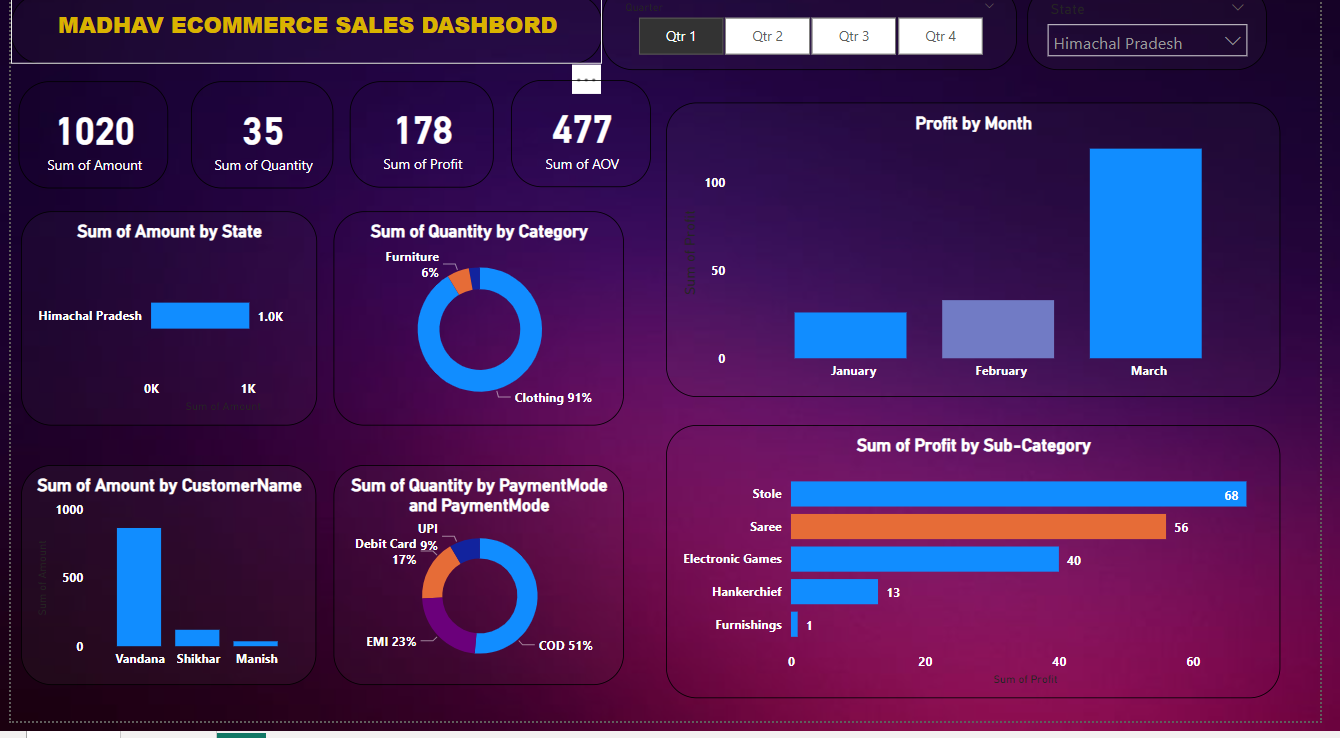

The dashboard page shown, as its layout file describes it:
{"tool":"powerbi","page":{"name":"Ecommerce_Sales_Dashbord","canvas":[1280,720],"ordinal":0},"visuals":[{"type":"textbox","box":[0,8.2,578.6,68.6],"z":0},{"type":"columnChart","title":"Profit by Month","fields":{"Category":["Orders.Order Date.Variation.Date Hierarchy.Month"],"Y":["Sum(Details.Profit)"]},"box":[640.3,115.2,600.5,287.9],"z":1000},{"type":"barChart","fields":{"Category":["Details.Sub-Category"],"Y":["Sum(Details.Profit)"]},"box":[640.3,430.5,600.5,267.4],"z":2000},{"type":"donutChart","fields":{"Category":["Details.Category"],"Y":["Sum(Details.Quantity)"]},"box":[315.3,220.7,283.8,209.8],"z":3000},{"type":"donutChart","fields":{"Category":["Details.PaymentMode"],"Y":["Sum(Details.Quantity)"],"Series":["Details.PaymentMode"]},"box":[315.3,468.9,283.8,215.3],"z":4000},{"type":"card","fields":{"Values":["Sum(Details.Amount)"]},"box":[7.3,94.1,146.7,105.1],"z":5000},{"type":"card","fields":{"Values":["Sum(Details.Quantity)"]},"box":[176,94.1,139.4,105.1],"z":6000},{"type":"card","fields":{"Values":["Sum(Details.Profit)"]},"box":[331.3,94.1,140.6,103.9],"z":7000},{"type":"card","fields":{"Values":["Sum(Details.AOV)"]},"box":[489,92.9,136.9,105.1],"z":8000},{"type":"barChart","fields":{"Category":["Orders.State"],"Y":["Sum(Details.Amount)"]},"box":[9.6,220.7,289.3,209.8],"z":9000},{"type":"columnChart","fields":{"Category":["Orders.CustomerName"],"Y":["Sum(Details.Amount)"]},"box":[10,469,289,215],"z":10000},{"type":"slicer","fields":{"Values":["Orders.Order Date"]},"box":[578.2,0,405.8,83.1],"z":11000},{"type":"slicer","fields":{"Values":["Orders.State"]},"box":[993.8,0,234.7,83.1],"z":12000}]}

Visuals, with their boxes in screenshot pixels (x1, y1, x2, y2), scaled from the page's 1280x720 canvas onto the 1340x738 screenshot:
textbox: bbox(0, 8, 606, 79)
"Profit by Month" columnChart: bbox(670, 118, 1299, 413)
barChart - Details.Sub-Category x Sum(Details.Profit): bbox(670, 441, 1299, 715)
donutChart - Details.Category x Sum(Details.Quantity): bbox(330, 226, 627, 441)
donutChart - Details.PaymentMode x Sum(Details.Quantity): bbox(330, 481, 627, 701)
card - Sum(Details.Amount): bbox(8, 96, 161, 204)
card - Sum(Details.Quantity): bbox(184, 96, 330, 204)
card - Sum(Details.Profit): bbox(347, 96, 494, 203)
card - Sum(Details.AOV): bbox(512, 95, 655, 203)
barChart - Orders.State x Sum(Details.Amount): bbox(10, 226, 313, 441)
columnChart - Orders.CustomerName x Sum(Details.Amount): bbox(10, 481, 313, 701)
slicer - Orders.Order Date: bbox(605, 0, 1030, 85)
slicer - Orders.State: bbox(1040, 0, 1286, 85)
